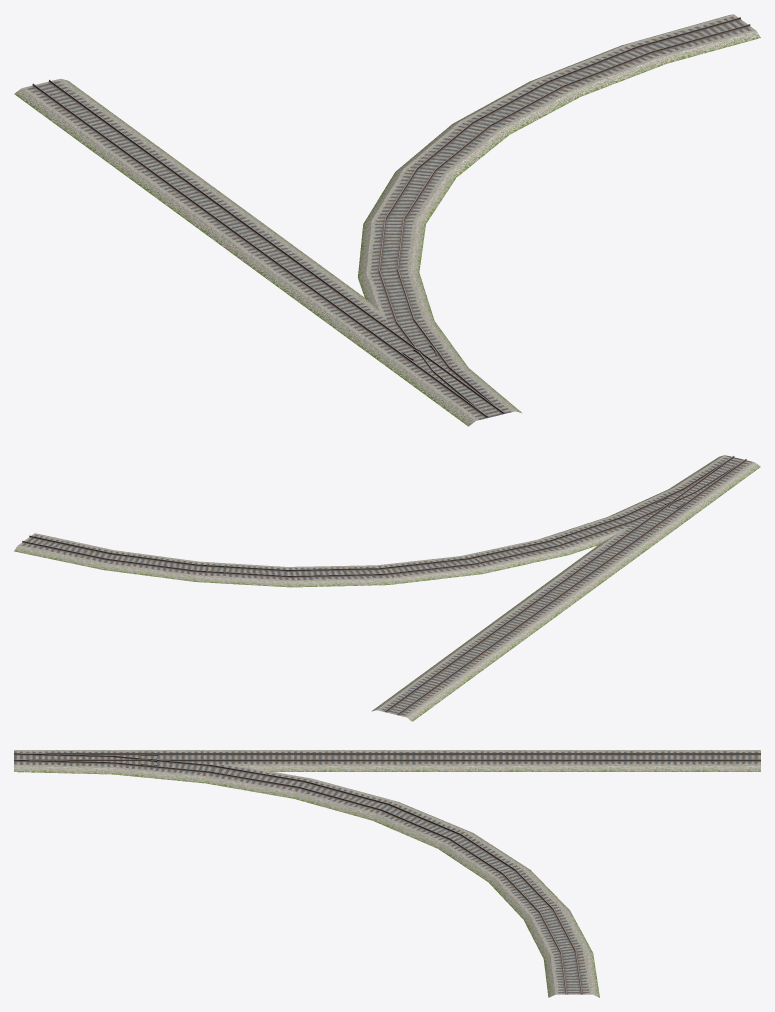
File: Tr_RPoints.fbx
3 renders of one model, top to bottom at view 1: azimuth 30°, elevation 25°; view 2: azimuth 150°, elevation 25°; view 3: azimuth 270°, elevation 25°, orthographic. The views are drawn at different scales.
Parts seen in each view (by area): view 1: U3DMesh; view 2: U3DMesh; view 3: U3DMesh.
Part boxes in pixels (left/top/right/bottom): U3DMesh: left=14, top=14, right=760, bottom=426; U3DMesh: left=14, top=455, right=760, bottom=721; U3DMesh: left=14, top=750, right=760, bottom=997.
Size of the model in its own units: 50.21 by 0.4496 by 64.
